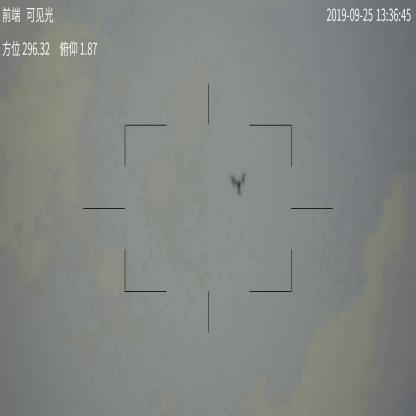uav: (230, 170, 247, 196)
